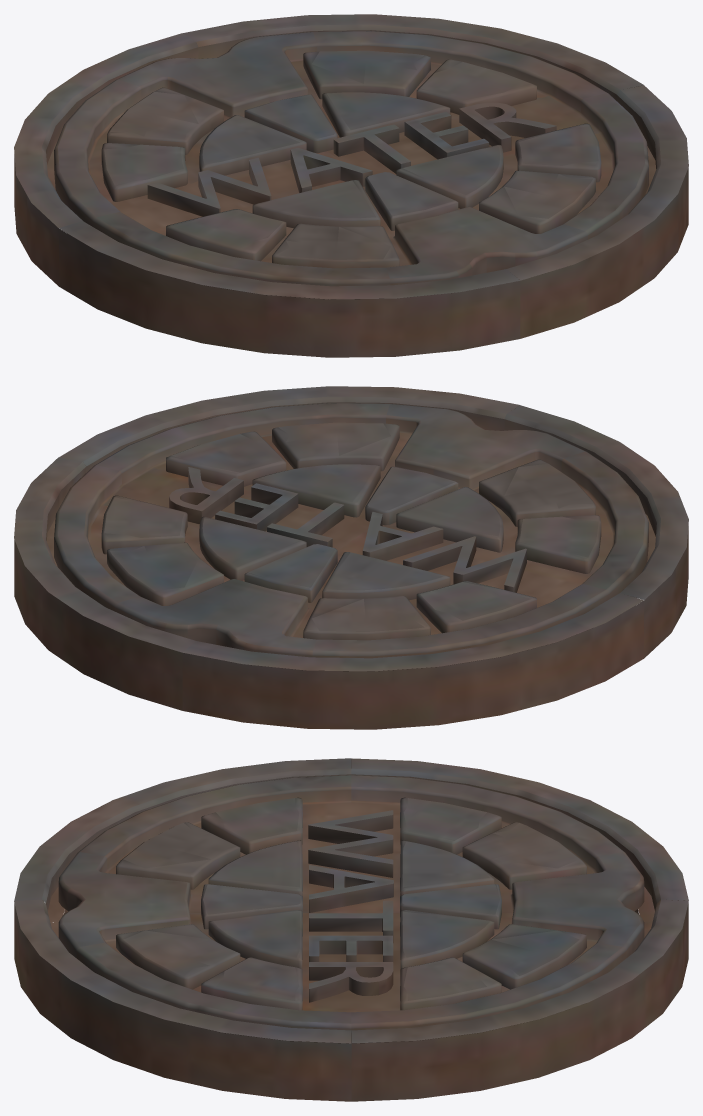
The model's file is water_manhole_cover.glb.
3 renders of one model, top to bottom at view 1: azimuth 30°, elevation 25°; view 2: azimuth 150°, elevation 25°; view 3: azimuth 270°, elevation 25°, orthographic.
Visible parts, largest first — view 1: water_manhole_cover, water_manhole_cover_frame; view 2: water_manhole_cover, water_manhole_cover_frame; view 3: water_manhole_cover, water_manhole_cover_frame.
Part boxes in pixels (x1,y1,x2,y2): water_manhole_cover: (54,31,648,286); water_manhole_cover_frame: (14,14,688,357); water_manhole_cover: (54,403,648,658); water_manhole_cover_frame: (14,386,688,729); water_manhole_cover: (58,775,644,1030); water_manhole_cover_frame: (14,758,688,1101).
Bounding box in the file's own units: 0.6916 × 0.0676 × 0.6915.
1 material, 1 textured.
